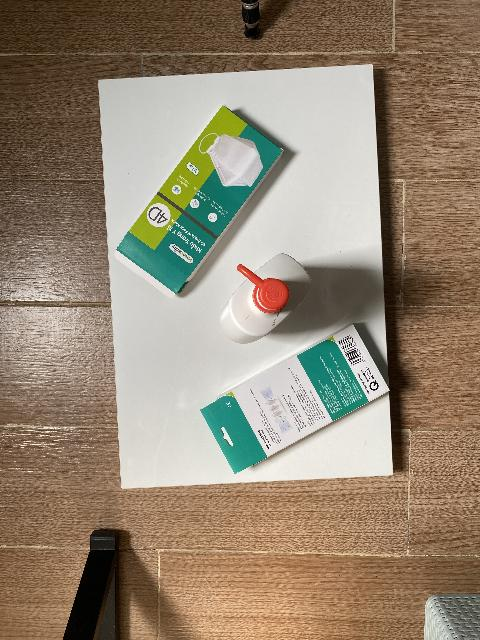4D_medical_face-mask: (117, 106, 284, 294), (200, 325, 389, 474)
life-buoy: (220, 253, 312, 344)
